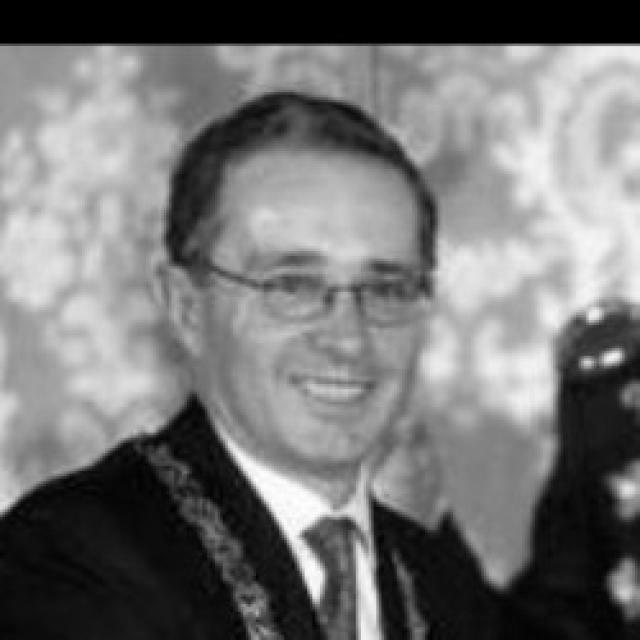real: (158, 122, 478, 474), (246, 254, 435, 327)
